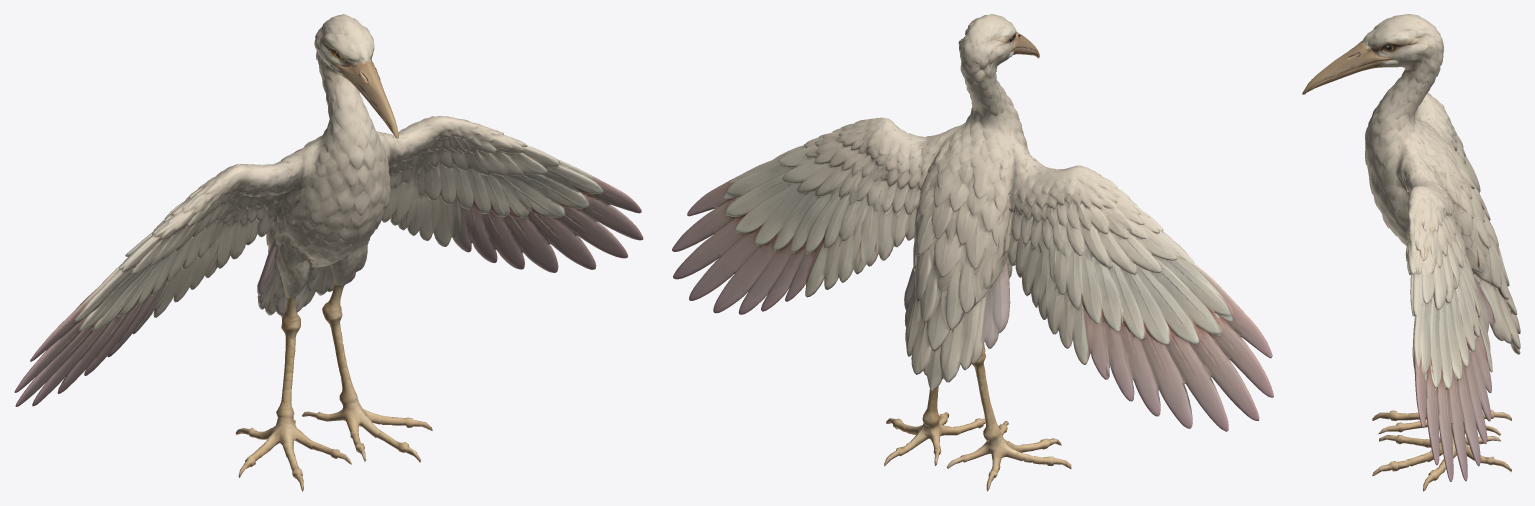
File: source-v3.glb
3 renders of one model, left to right at view 1: azimuth 30°, elevation 25°; view 2: azimuth 150°, elevation 25°; view 3: azimuth 270°, elevation 25°, orthographic. The views are drawn at different scales.
Visible parts, largest first — view 1: tripo_node_58d3a816-7c20-4bfe-a91e-4b2c09c398ca; view 2: tripo_node_58d3a816-7c20-4bfe-a91e-4b2c09c398ca; view 3: tripo_node_58d3a816-7c20-4bfe-a91e-4b2c09c398ca.
Part boxes in pixels (x1,y1,x2,y2): tripo_node_58d3a816-7c20-4bfe-a91e-4b2c09c398ca: (14, 14, 643, 491); tripo_node_58d3a816-7c20-4bfe-a91e-4b2c09c398ca: (672, 14, 1273, 491); tripo_node_58d3a816-7c20-4bfe-a91e-4b2c09c398ca: (1302, 14, 1520, 491).
Size of the model in its own units: 0.9815 by 0.666 by 0.3037.
1 material, 1 textured.
